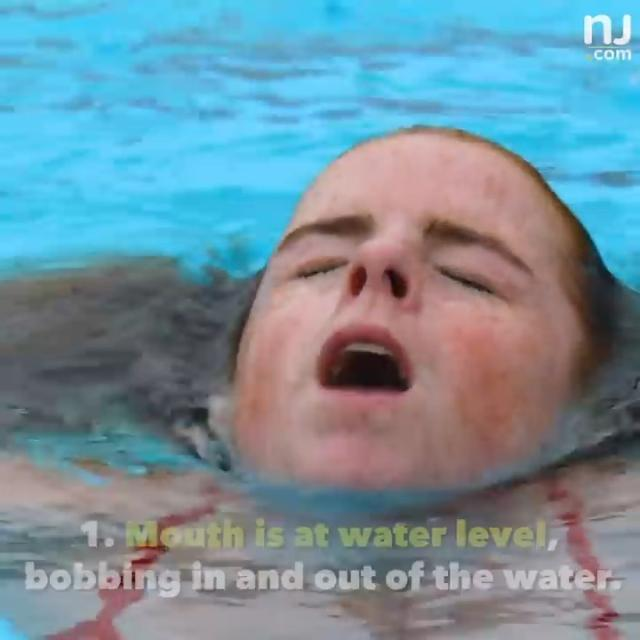Drowning: (31, 87, 640, 499)
